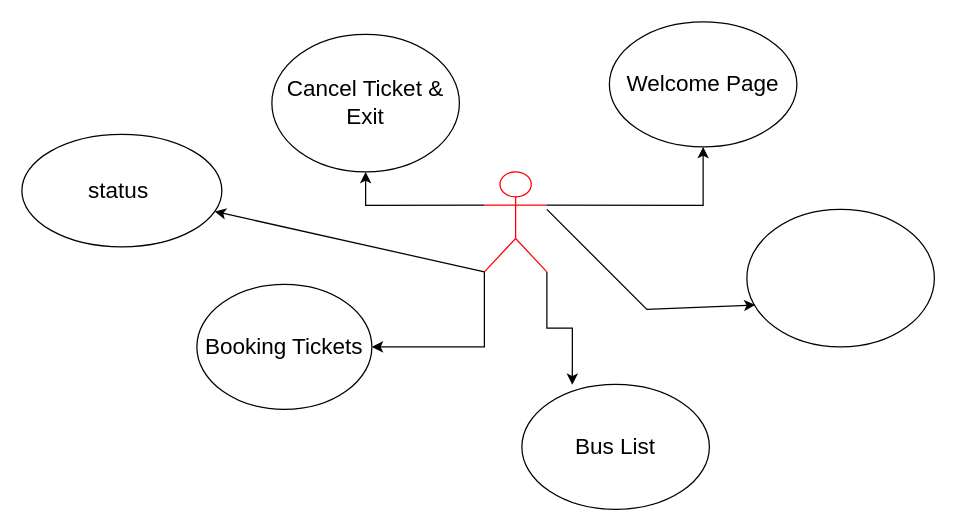
The diagram is 956 pixels wide and 531 high, and some of its shapes have lost their labels. Each missing label, with the box of its shape:
USER: (483, 171, 547, 272)
User Choice: (746, 208, 934, 347)
